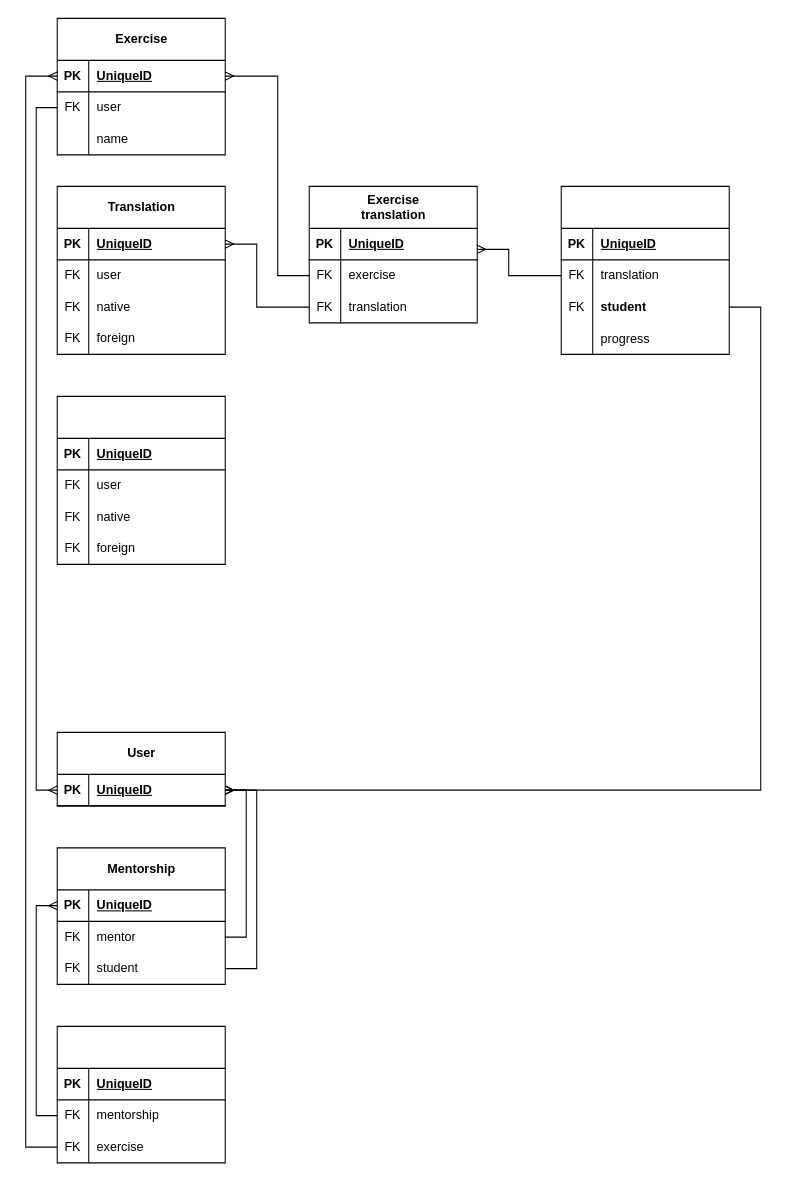
Image size: 787x1181. Some labels were removed from this diagram. The box of each missing label's shape, as (x1, y1, x2, y2) in pixels:
Assigned exercise: (56, 1025, 225, 1163)
Calculation: (56, 395, 225, 564)
Translation progress: (560, 185, 729, 354)
